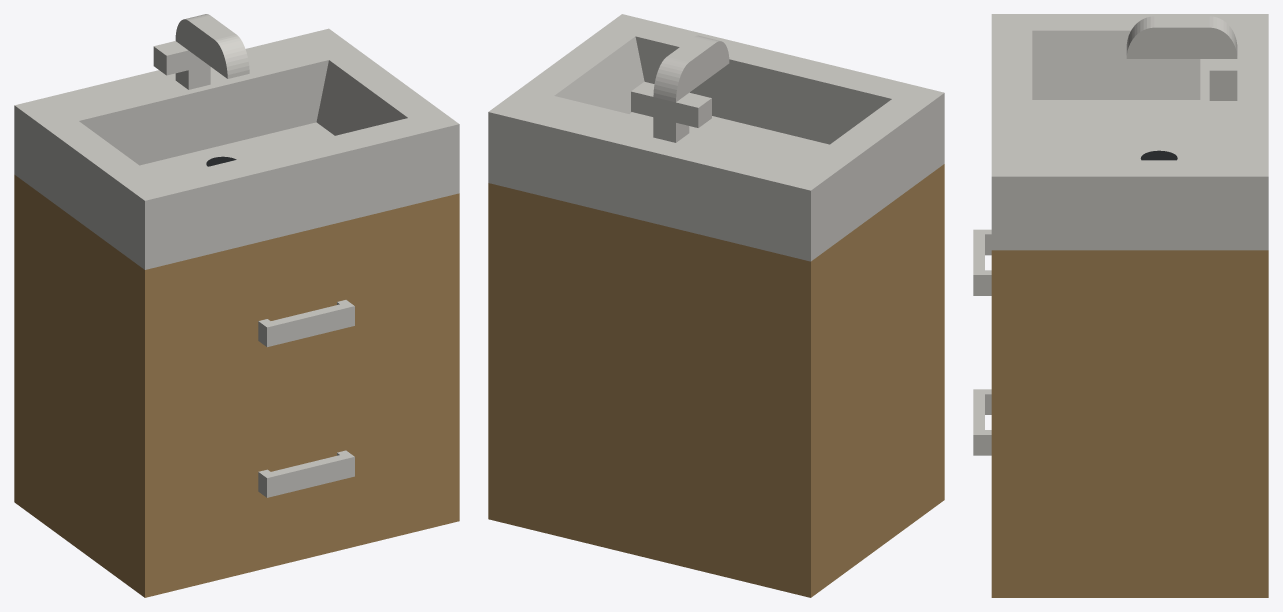
Rendered from vanity_unit.glb.
The picture shows the model from 3 angles, left to right: view 1: azimuth 30°, elevation 25°; view 2: azimuth 150°, elevation 25°; view 3: azimuth 270°, elevation 25°; orthographic projection. The views are drawn at different scales.
Parts seen in each view (by area): view 1: vanity_unit; view 2: vanity_unit; view 3: vanity_unit.
Part boxes in pixels (left/top/right/bottom): vanity_unit: left=14, top=14, right=459, bottom=597; vanity_unit: left=488, top=14, right=944, bottom=597; vanity_unit: left=973, top=14, right=1268, bottom=597.
Bounding box in the file's own units: 0.6 × 0.85 × 0.46.
